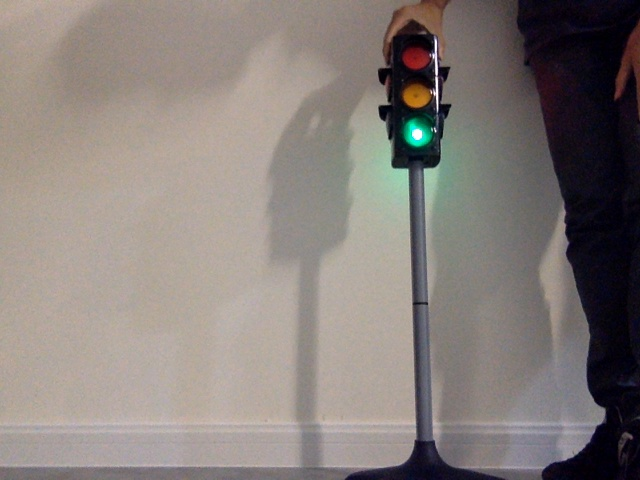green: (398, 40, 434, 151)
